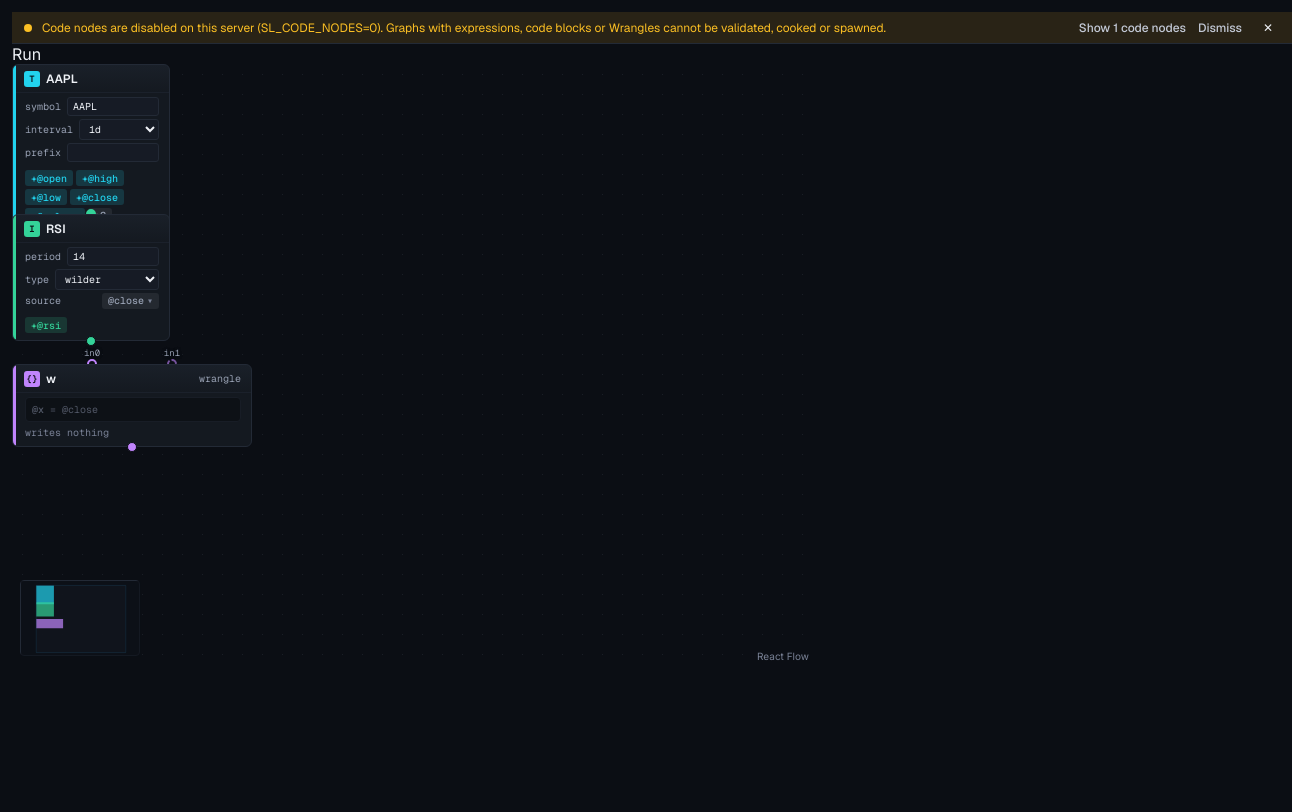
Test: S49 code off › a graph with a Wrangle: banner with `Show 1 code nodes`, Run disabled with the tooltip, no = buttons
Expected: the message with test id "nb-banner-code_disabled" shows "Code nodes are disabled on this server (SL_CODE_NODES=0).", [42, 20, 886, 36]
Expected: the button with test id "nb-code-banner-show" reads "Show 1 code nodes", [1075, 16, 1190, 38]
Click the button with test id "nb-code-banner-dismiss".
click(1220, 28)  # box [1194, 16, 1246, 38]
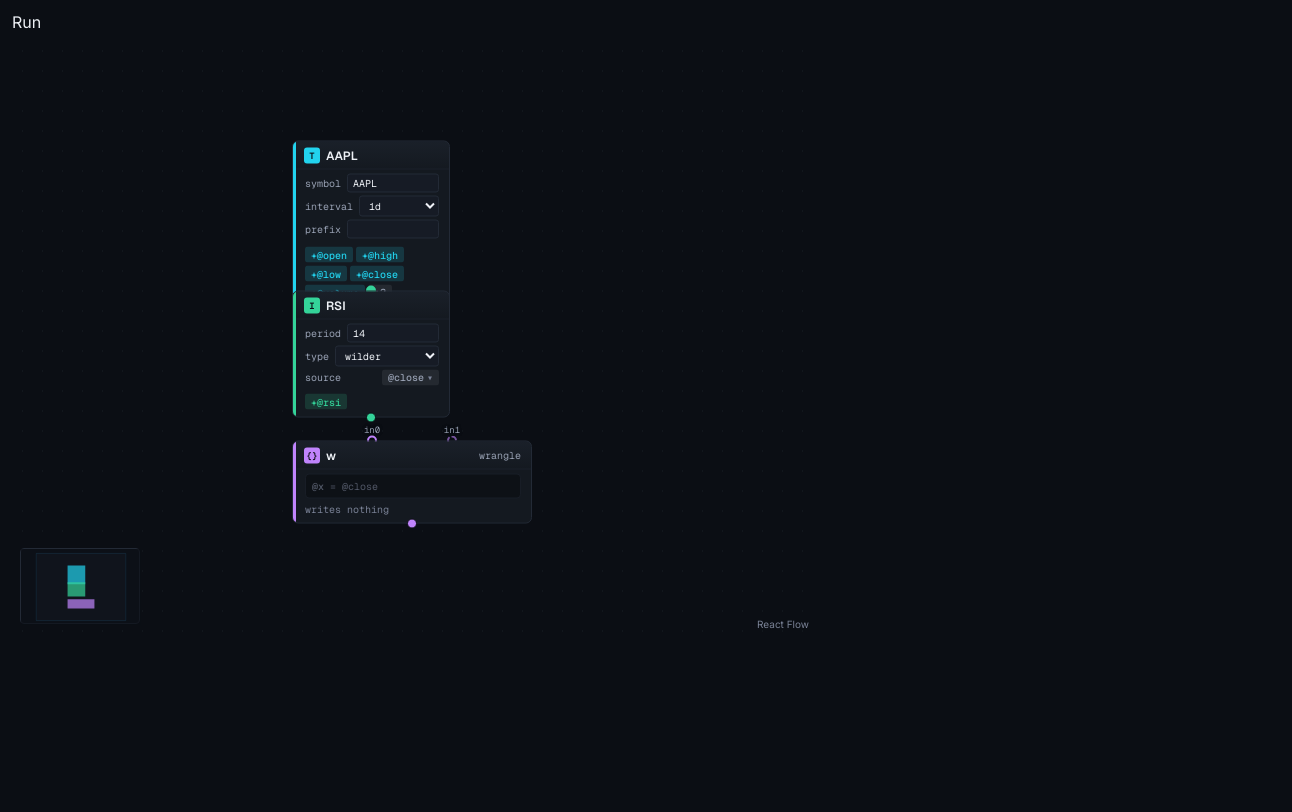
Expected: the message with test id "nb-banner-code_disabled" is gone
